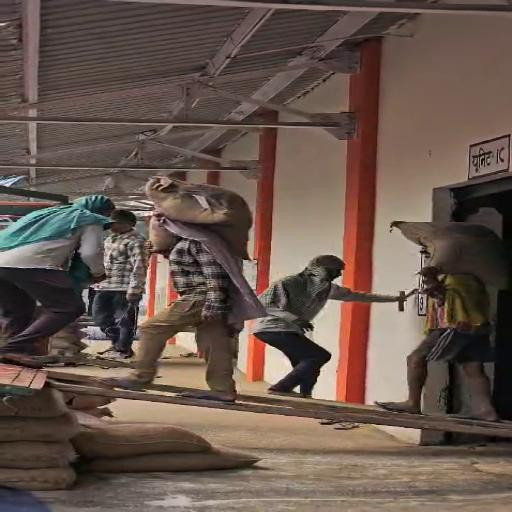bag: (141, 170, 260, 258), (380, 215, 512, 292)
